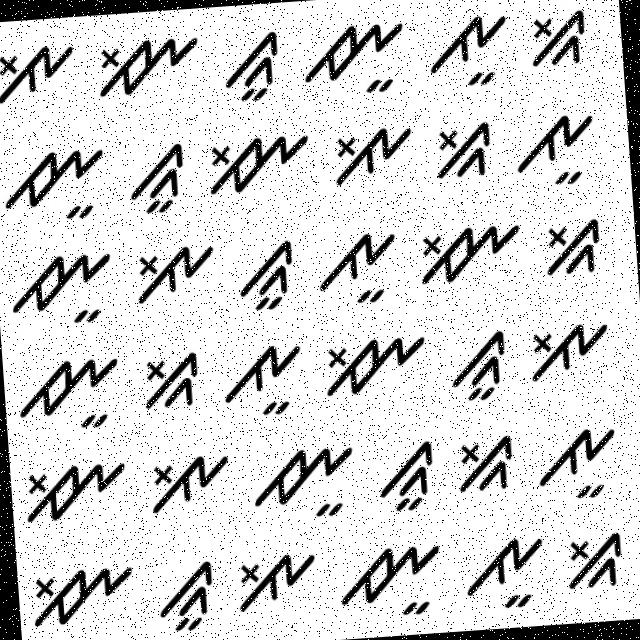ah: (530, 412, 620, 508), (312, 220, 404, 312), (508, 106, 600, 195), (421, 5, 512, 93), (462, 528, 551, 616), (215, 340, 303, 423)
nggah: (223, 235, 308, 318), (150, 554, 225, 638), (369, 435, 440, 518), (218, 24, 288, 106), (123, 141, 195, 218), (444, 328, 514, 404)
nggo: (523, 0, 593, 84), (532, 210, 612, 281), (448, 426, 520, 504), (131, 347, 207, 420), (426, 114, 496, 191), (560, 526, 632, 600)
njah: (292, 5, 418, 104), (335, 531, 452, 631), (0, 138, 110, 237), (242, 434, 360, 526), (14, 345, 125, 442), (7, 248, 118, 336)
njo: (89, 20, 208, 110), (314, 320, 432, 404), (200, 122, 316, 202), (22, 554, 138, 634), (18, 451, 132, 531), (415, 212, 526, 292)
o: (319, 111, 422, 191), (124, 234, 218, 316), (144, 438, 234, 523), (231, 540, 322, 620), (520, 314, 616, 388), (0, 34, 79, 112)
